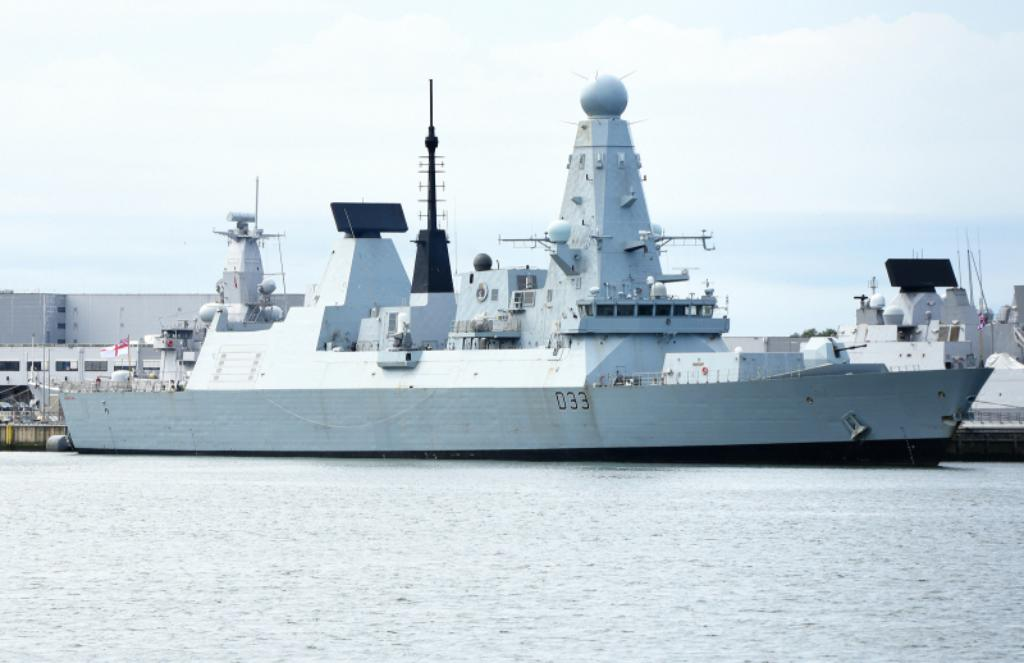Warship: (59, 63, 1003, 469)
